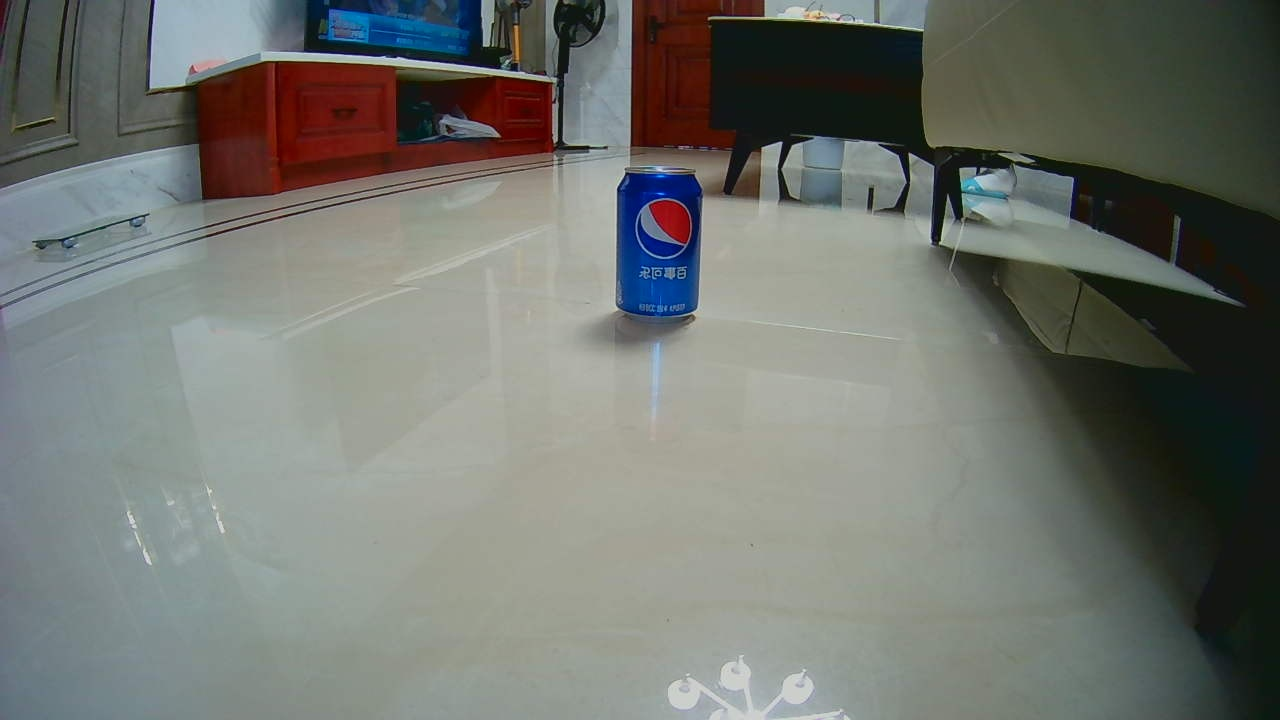pessi: (620, 163, 702, 325)
